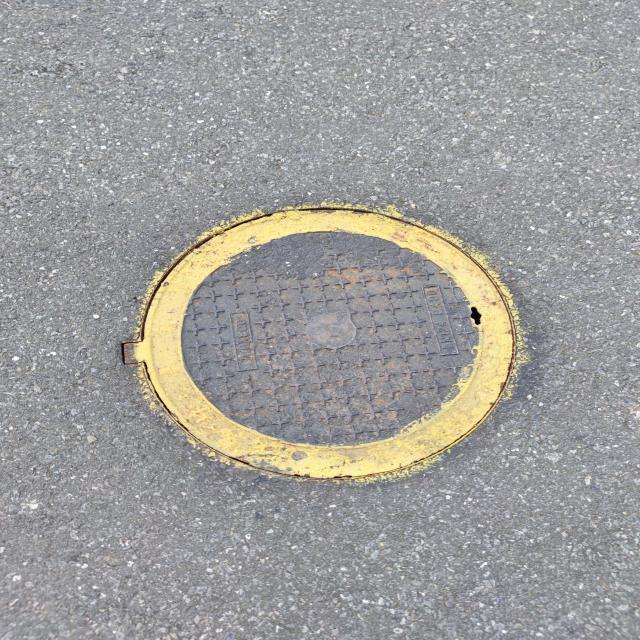Good: (130, 204, 524, 483)
